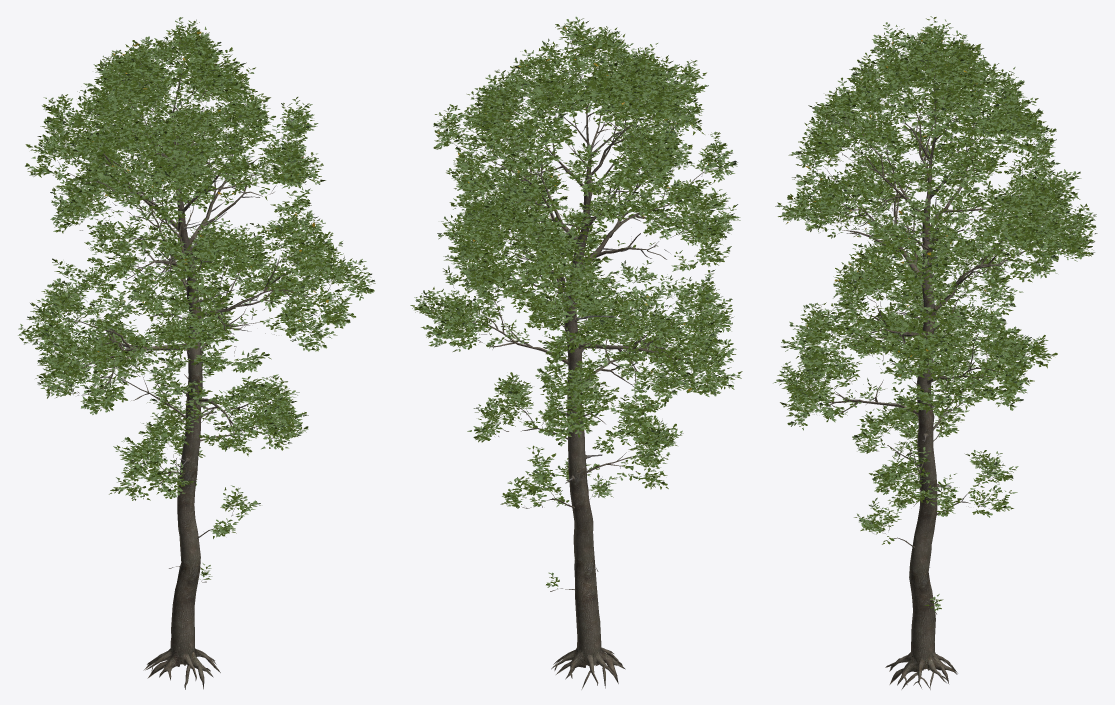
The model's file is quercus-robur-lone-ld-s57-proof.glb.
3 views of the same model, side by side, from view 1: azimuth 30°, elevation 25°; view 2: azimuth 150°, elevation 25°; view 3: azimuth 270°, elevation 25° (orthographic).
Visible parts, largest first — view 1: ForestPlantCatalog_quercus-robur-lone-ld-s57; view 2: ForestPlantCatalog_quercus-robur-lone-ld-s57; view 3: ForestPlantCatalog_quercus-robur-lone-ld-s57.
Boxes of the visible parts, x1,y1,x2,y2 form: ForestPlantCatalog_quercus-robur-lone-ld-s57: (18, 17, 375, 689); ForestPlantCatalog_quercus-robur-lone-ld-s57: (410, 16, 742, 689); ForestPlantCatalog_quercus-robur-lone-ld-s57: (773, 16, 1097, 689).
Bounding box in the file's own units: 6.99 × 15 × 6.78.
14 materials, 14 textured.
